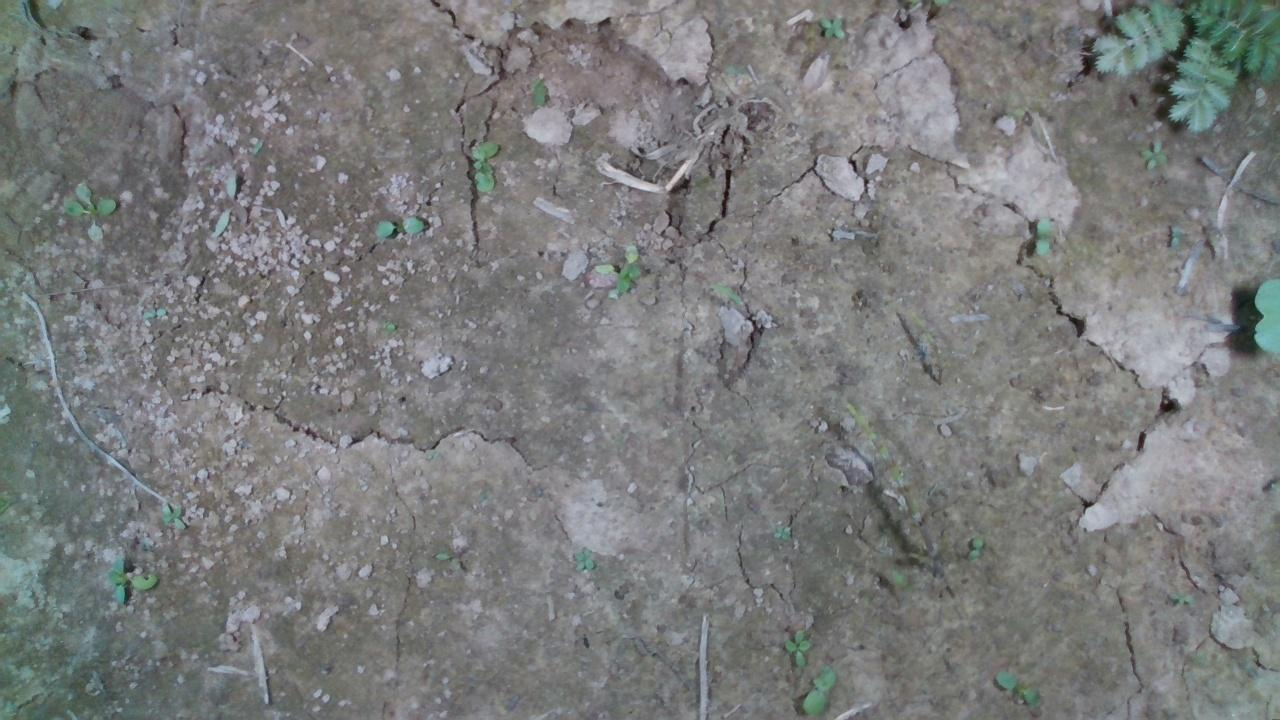weed: (59, 180, 119, 240), (993, 667, 1042, 706), (800, 667, 835, 716), (373, 214, 425, 237), (781, 626, 810, 667), (1138, 136, 1167, 170), (159, 500, 185, 529), (1033, 215, 1051, 256), (569, 544, 595, 572)
